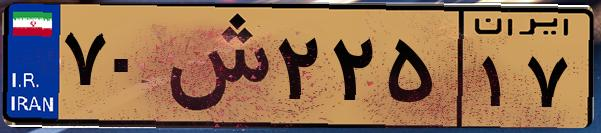0: (110, 28, 158, 98)
1: (475, 38, 525, 113)
2: (270, 28, 330, 110), (330, 28, 385, 110)
5: (385, 28, 445, 110)
7: (57, 26, 110, 100), (525, 38, 570, 115)
ش: (158, 12, 270, 120)
